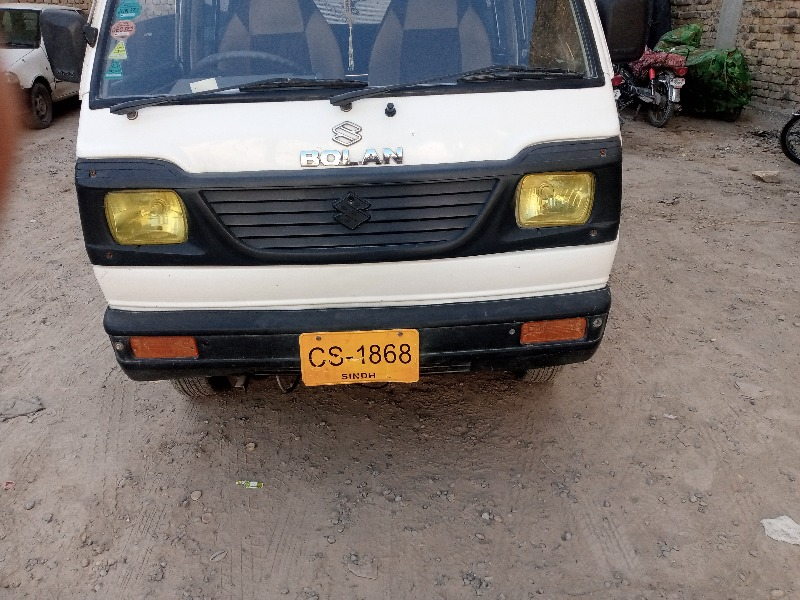License Plate: (295, 323, 425, 393)
